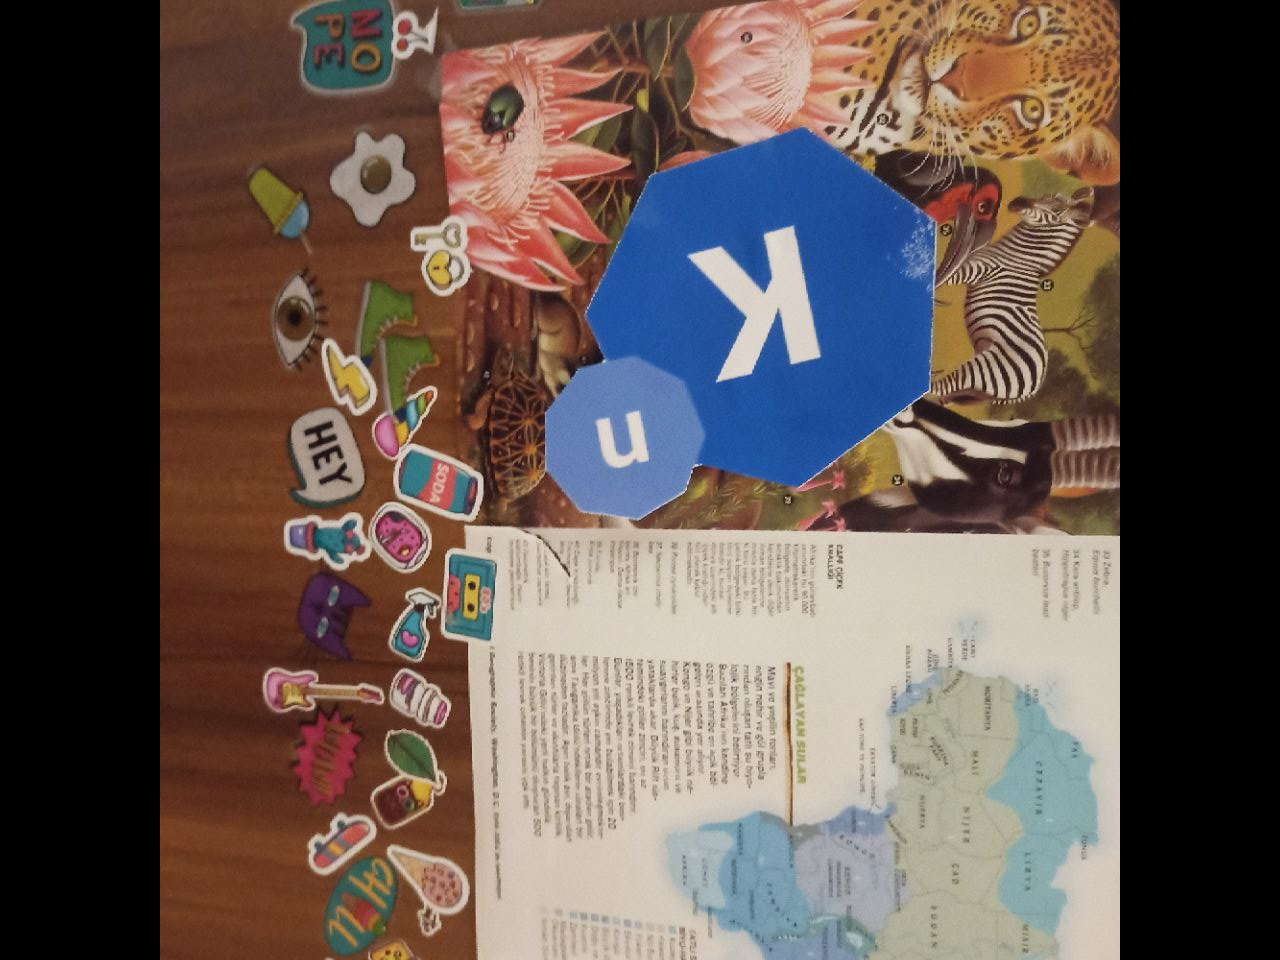knative: (543, 126, 939, 519)
